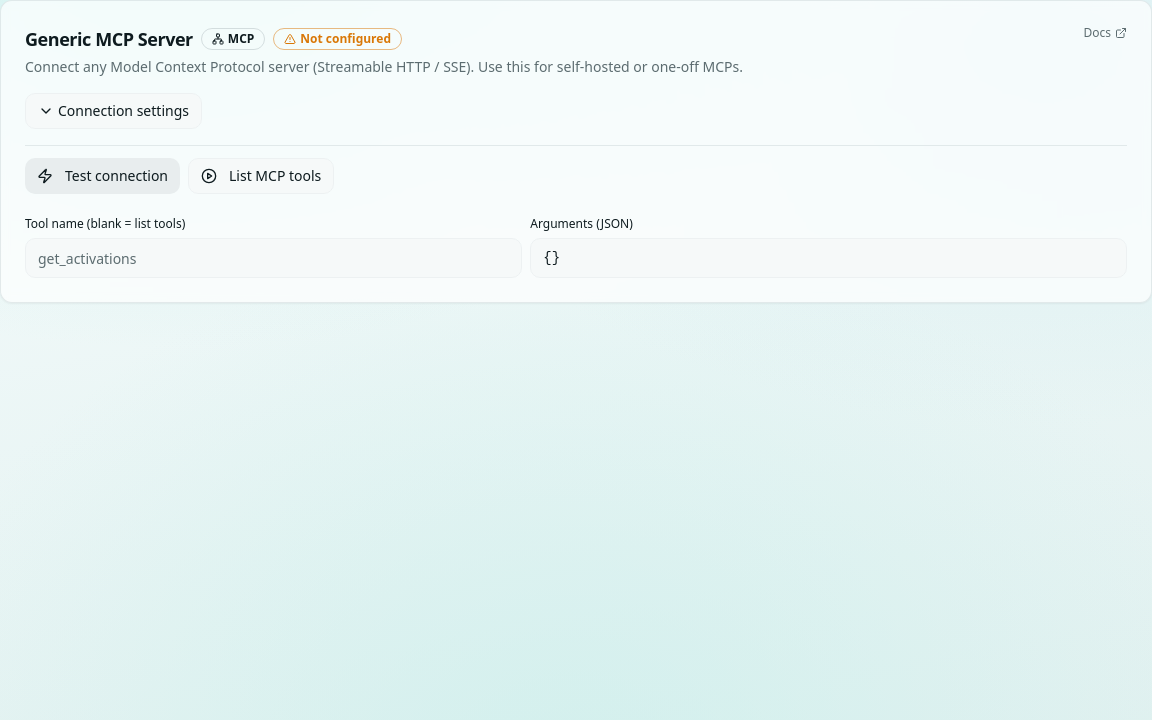
Test case: IntegrationCrudCard — testing & sample requests › lists MCP tools when no tool name is given
The width and height of the screenshot is (1152, 720).
Click the button "List MCP tools". click: [261, 176]
box: [188,158,334,194]
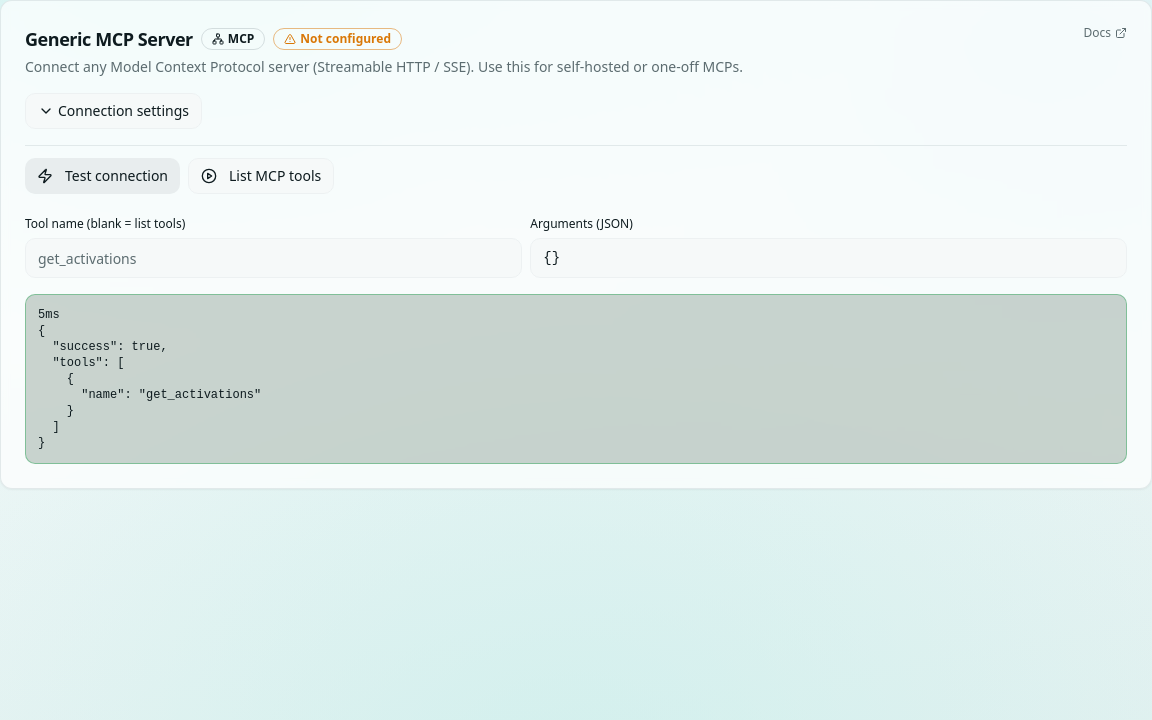
Now the text "get_activations" is shown, box [38,308,261,450]
